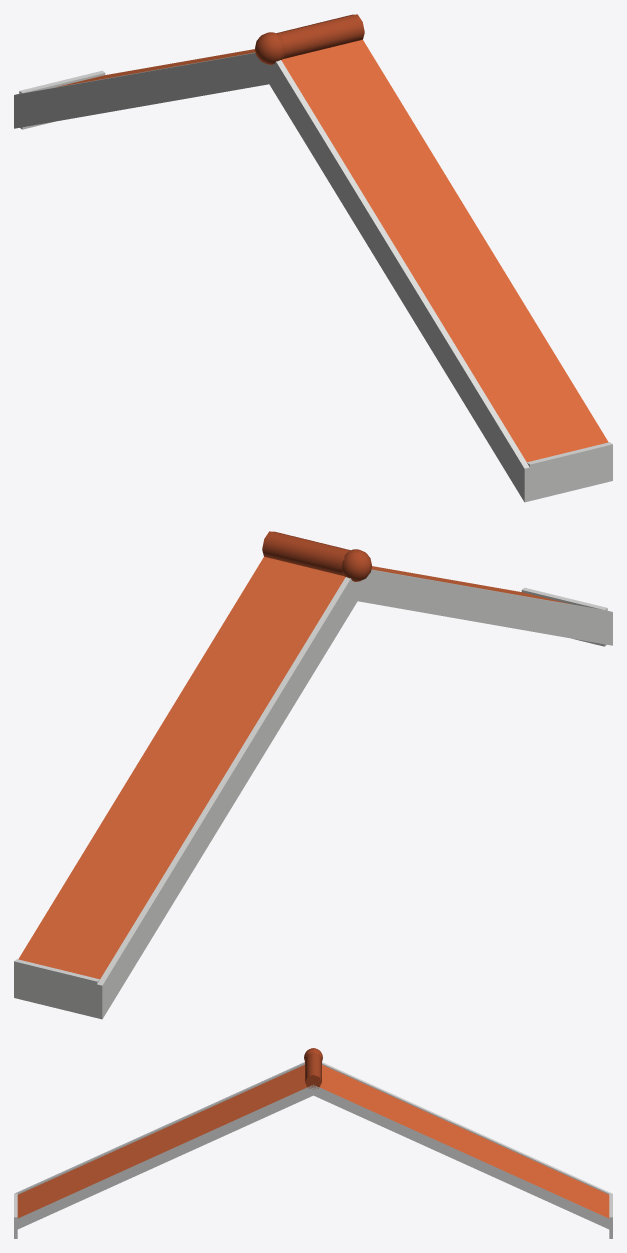
File: telhado_empena_v4_i50.glb
3 views of the same model, one above another, from view 1: azimuth 30°, elevation 25°; view 2: azimuth 150°, elevation 25°; view 3: azimuth 270°, elevation 25° (orthographic). The views are drawn at different scales.
Visible parts, largest first — view 1: telhado_empena_v4_i50; view 2: telhado_empena_v4_i50; view 3: telhado_empena_v4_i50.
Boxes of the visible parts, x1=… form: telhado_empena_v4_i50: x1=14, y1=14, x2=612, y2=502; telhado_empena_v4_i50: x1=14, y1=531, x2=612, y2=1019; telhado_empena_v4_i50: x1=14, y1=1048, x2=612, y2=1238.
Bounding box in the file's own units: 0.57 × 1.52 × 5.
